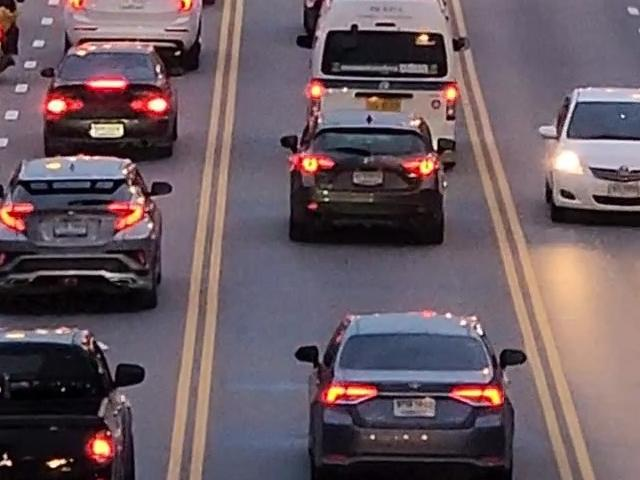car: (296, 308, 529, 480), (0, 151, 196, 311), (0, 321, 159, 480), (294, 110, 429, 243), (37, 40, 185, 154), (543, 85, 640, 228), (53, 0, 203, 73), (302, 0, 415, 49)
motorcycle: (0, 0, 19, 85)
